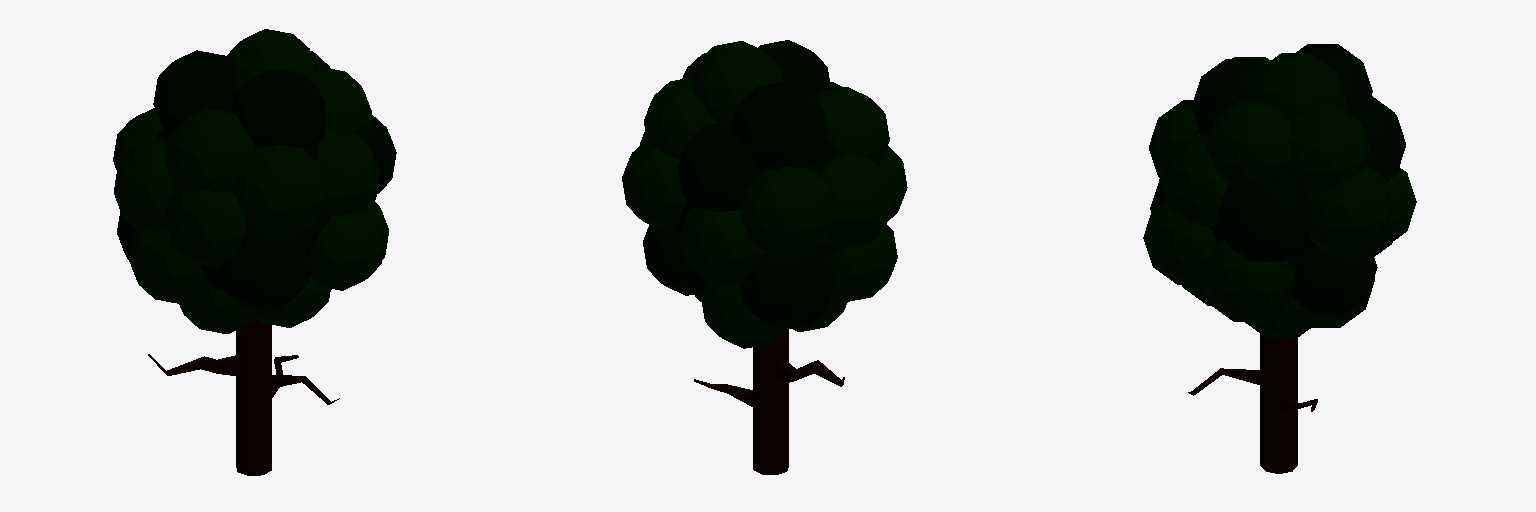
File: Tree1.obj
3 views of the same model, side by side, from view 1: azimuth 30°, elevation 25°; view 2: azimuth 150°, elevation 25°; view 3: azimuth 270°, elevation 25° (orthographic).
Visible parts, largest first — view 1: Tree1; view 2: Tree1; view 3: Tree1.
Part boxes in pixels (left/top/right/bottom): Tree1: left=113, top=29, right=396, bottom=475; Tree1: left=622, top=40, right=907, bottom=474; Tree1: left=1143, top=44, right=1416, bottom=473.
Size of the model in its own units: 2.51 by 4.01 by 2.35.